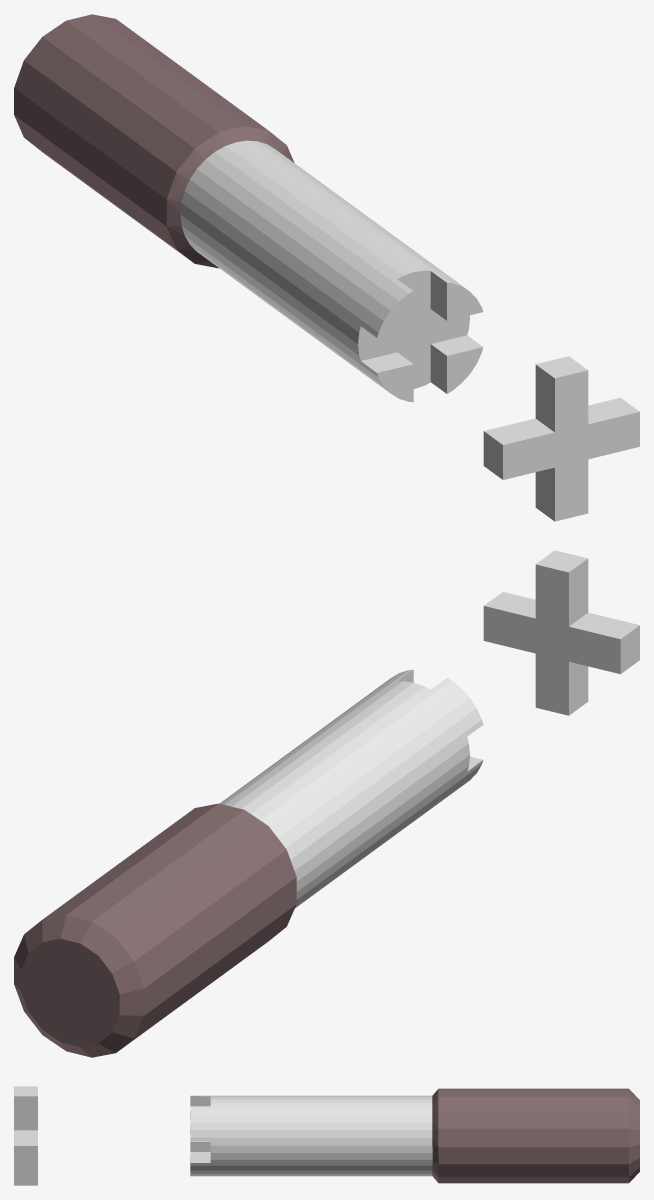
The model's file is screwdriver-and-screw.fbx.
3 views of the same model, one above another, from view 1: azimuth 30°, elevation 25°; view 2: azimuth 150°, elevation 25°; view 3: azimuth 270°, elevation 25° (orthographic). The views are drawn at different scales.
Parts seen in each view (by area): view 1: stick, cross; view 2: stick, cross; view 3: stick, cross.
Boxes of the visible parts, x1=… form: stick: x1=14, y1=14, x2=483, y2=402; cross: x1=483, y1=356, x2=639, y2=521; stick: x1=14, y1=669, x2=483, y2=1057; cross: x1=483, y1=550, x2=639, y2=715; stick: x1=190, y1=1088, x2=639, y2=1183; cross: x1=14, y1=1086, x2=37, y2=1185.
Size of the model in its own units: 3666 by 3666 by 23250.
